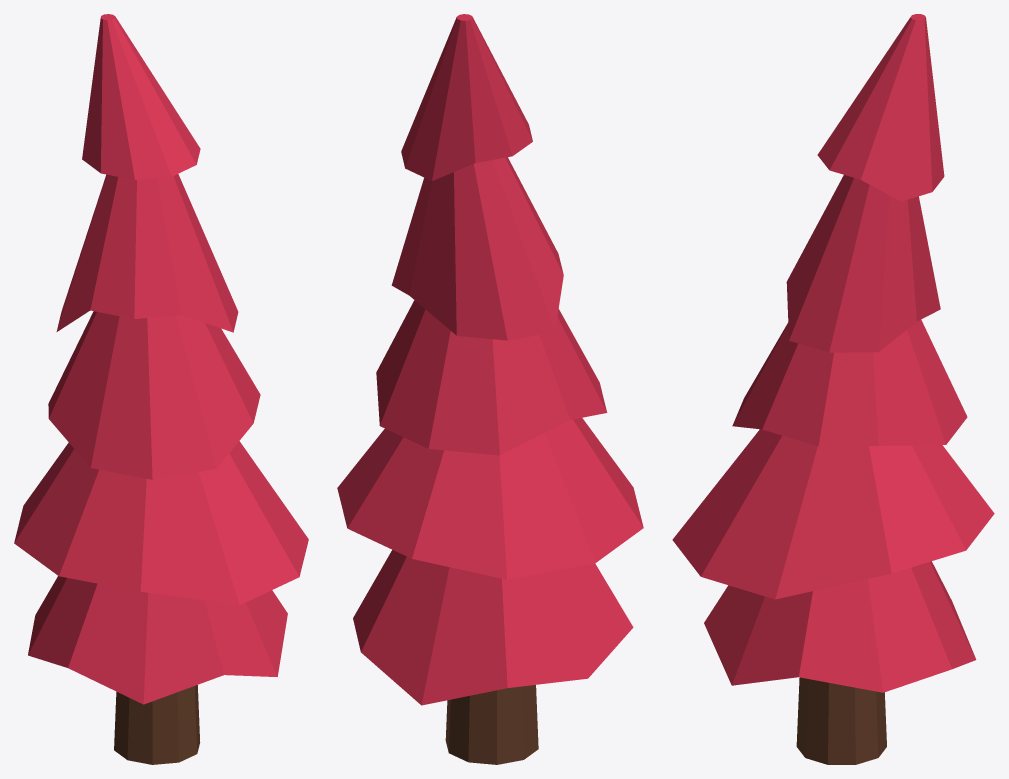
The picture shows the model from 3 angles, left to right: view 1: azimuth 30°, elevation 25°; view 2: azimuth 150°, elevation 25°; view 3: azimuth 270°, elevation 25°; orthographic projection. The views are drawn at different scales.
Parts seen in each view (by area): view 1: t6-purple; view 2: t6-purple; view 3: t6-purple.
Part boxes in pixels (<box>): t6-purple: <box>14,14,308,764</box>; t6-purple: <box>337,14,643,764</box>; t6-purple: <box>672,14,994,764</box>.
Size of the model in its own units: 303 by 856 by 346.
